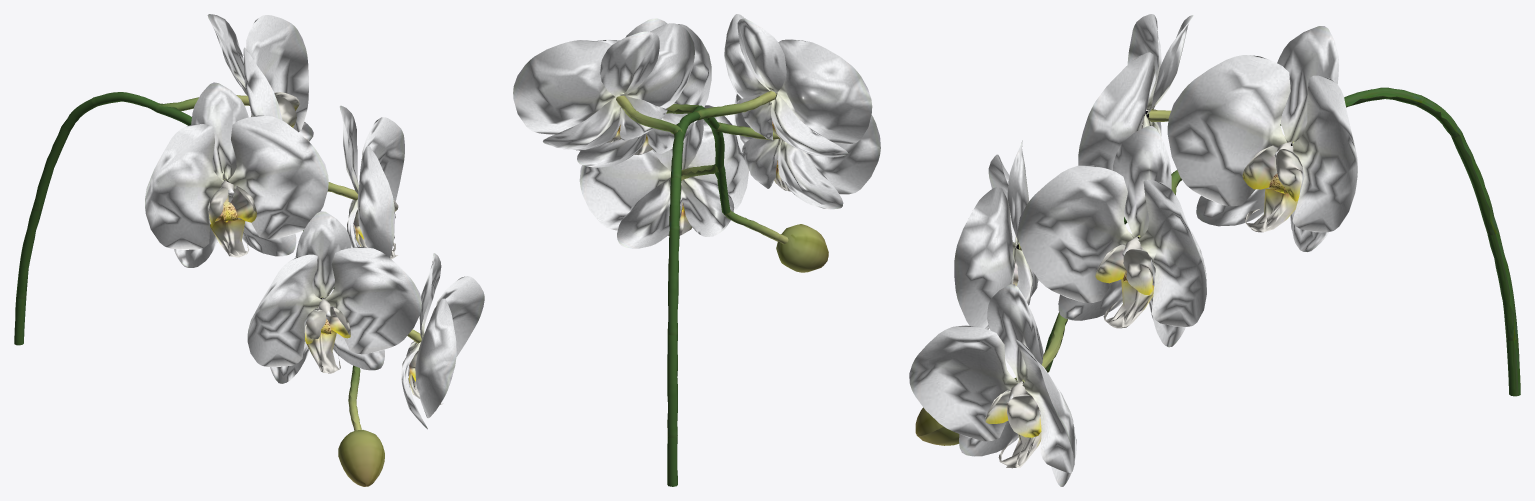
3 renders of one model, left to right at view 1: azimuth 30°, elevation 25°; view 2: azimuth 150°, elevation 25°; view 3: azimuth 270°, elevation 25°, orthographic. The views are drawn at different scales.
Parts seen in each view (by area): view 1: 6e6e2ac8; view 2: 6e6e2ac8; view 3: 6e6e2ac8.
Part boxes in pixels (bbox=[...]): 6e6e2ac8: bbox=[14, 14, 484, 486]; 6e6e2ac8: bbox=[513, 14, 880, 486]; 6e6e2ac8: bbox=[909, 14, 1520, 486].
Size of the model in its own units: 0.1372 by 0.151 by 0.1937.
Materials: 2 (1 with a texture image).
